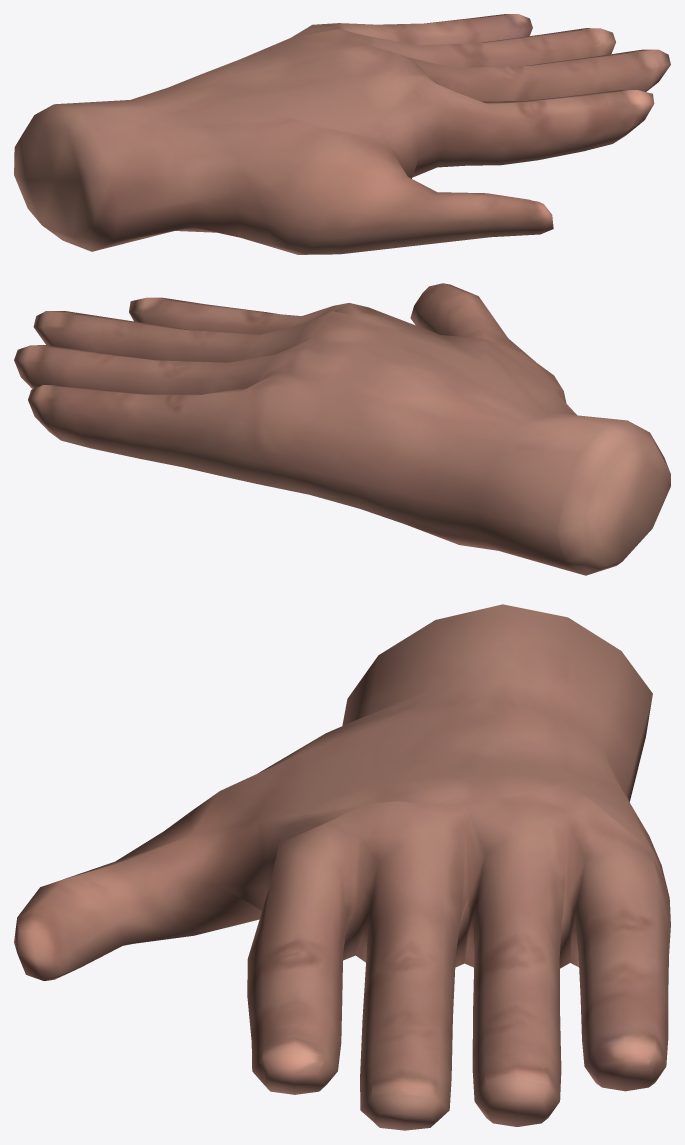
The model's file is Left Hand.fbx.
3 renders of one model, top to bottom at view 1: azimuth 30°, elevation 25°; view 2: azimuth 150°, elevation 25°; view 3: azimuth 270°, elevation 25°, orthographic. The views are drawn at different scales.
Visible parts, largest first — view 1: polySurface5; view 2: polySurface5; view 3: polySurface5.
Part boxes in pixels (<box>): polySurface5: <box>14,14,670,254</box>; polySurface5: <box>14,283,670,575</box>; polySurface5: <box>14,604,670,1130</box>.
Size of the model in its own units: 22.1 by 5 by 13.93.
1 material, 1 textured.
